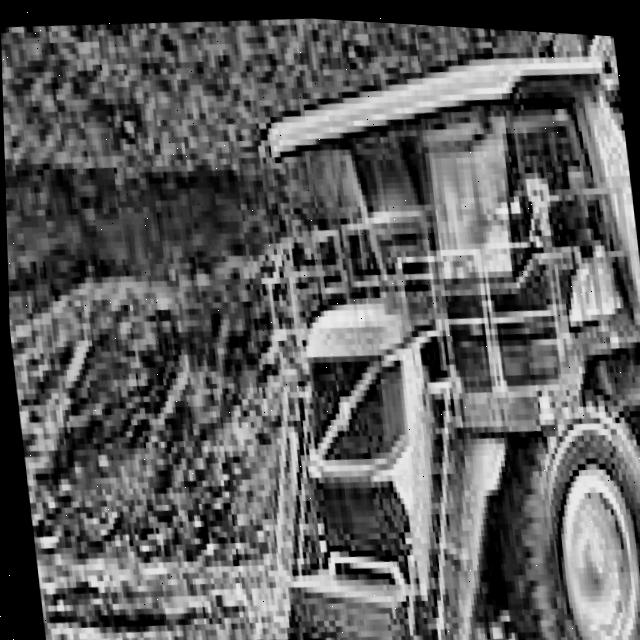dump_truck: (195, 9, 640, 640)
